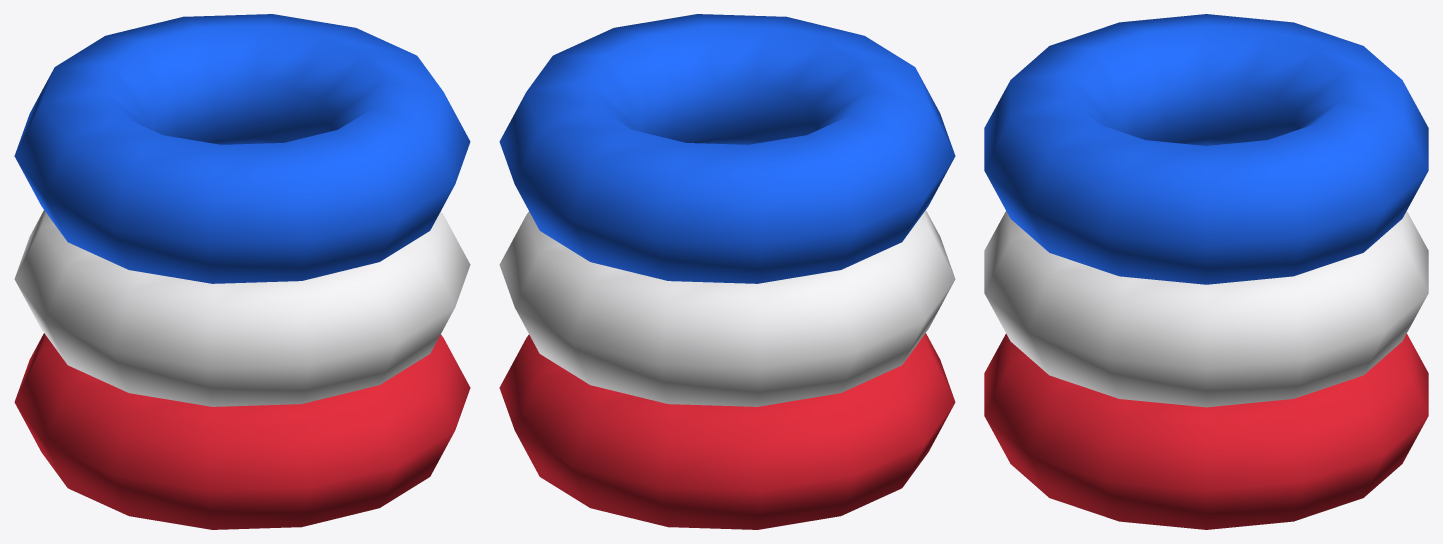
The model's file is tires.glb.
3 renders of one model, left to right at view 1: azimuth 30°, elevation 25°; view 2: azimuth 150°, elevation 25°; view 3: azimuth 270°, elevation 25°, orthographic.
Visible parts, largest first — view 1: Tires; view 2: Tires; view 3: Tires.
Part boxes in pixels (<box>): Tires: <box>14,14,470,529</box>; Tires: <box>499,14,955,529</box>; Tires: <box>984,14,1428,529</box>.
Size of the model in its own units: 1.28 by 1.15 by 1.25.
